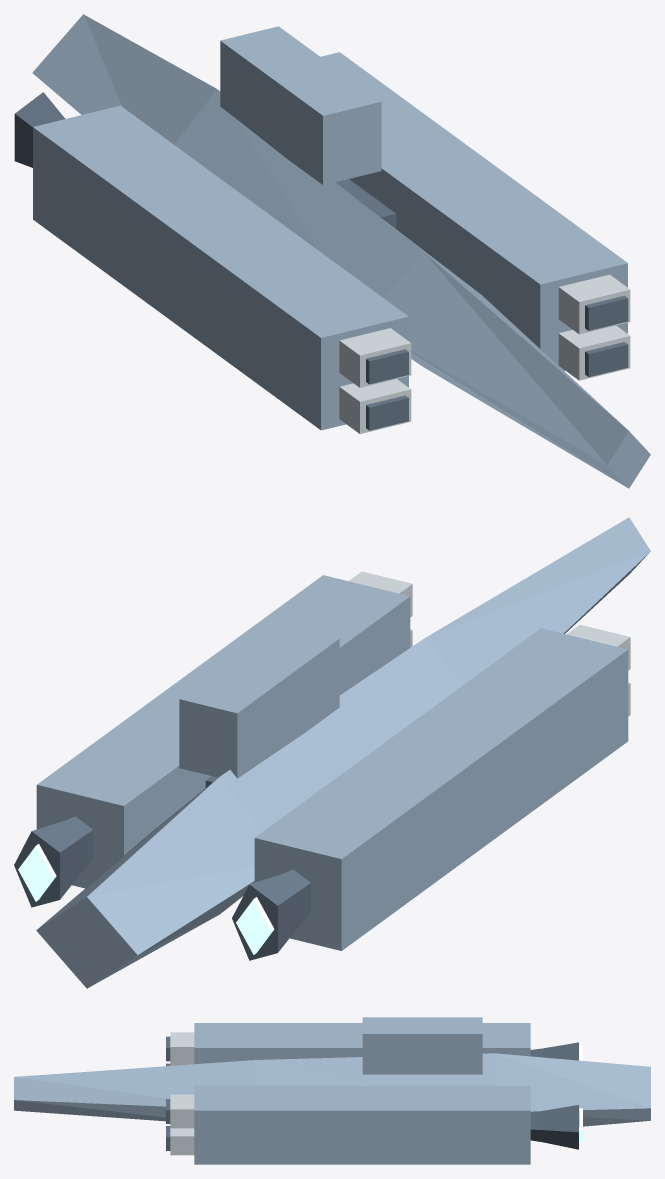
The picture shows the model from 3 angles, top to bottom: view 1: azimuth 30°, elevation 25°; view 2: azimuth 150°, elevation 25°; view 3: azimuth 270°, elevation 25°; orthographic projection. The views are drawn at different scales.
Size of the model in its own units: 6.4 by 3.92 by 19.71.
